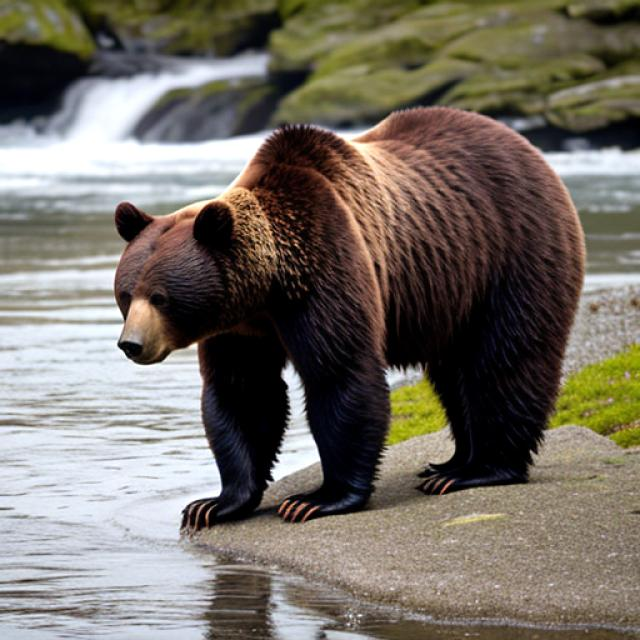bear: (100, 185, 264, 378)
